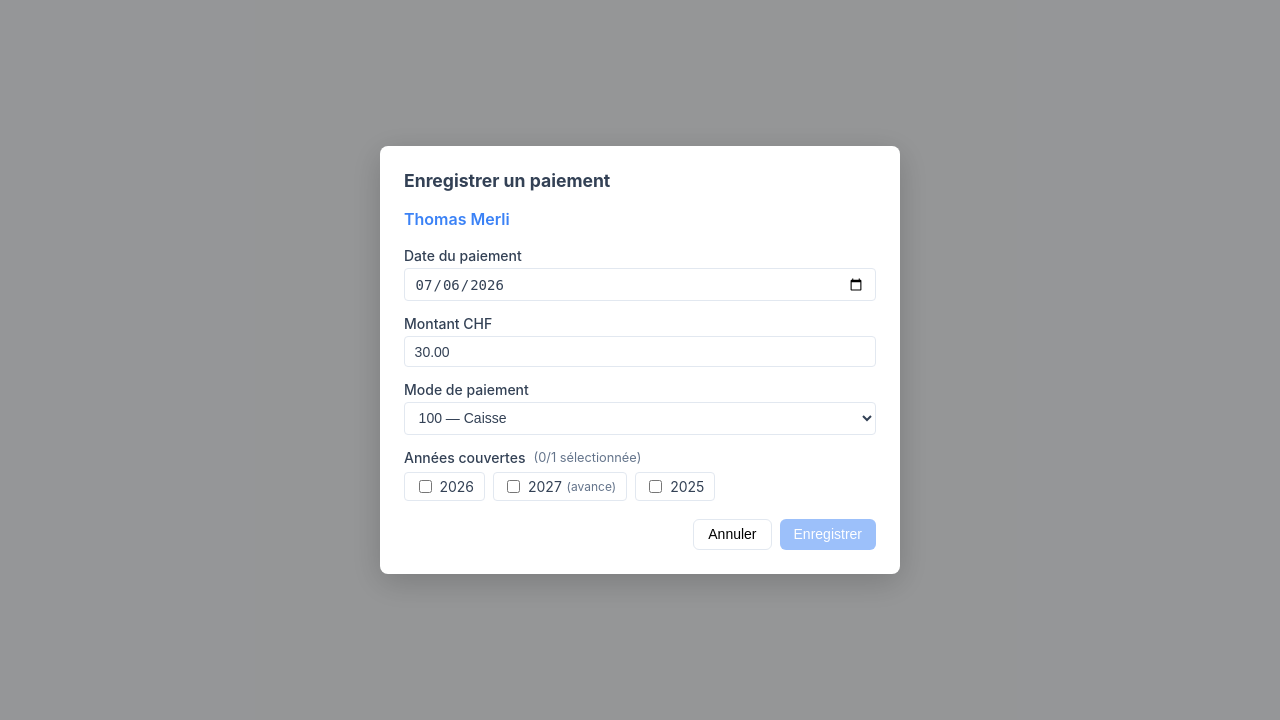
Test: MembrePaiementModal › affiche le surplus si montant % 30 > 0
Clear the number field showing "30.00" at (640, 352), box [404, 336, 876, 367]
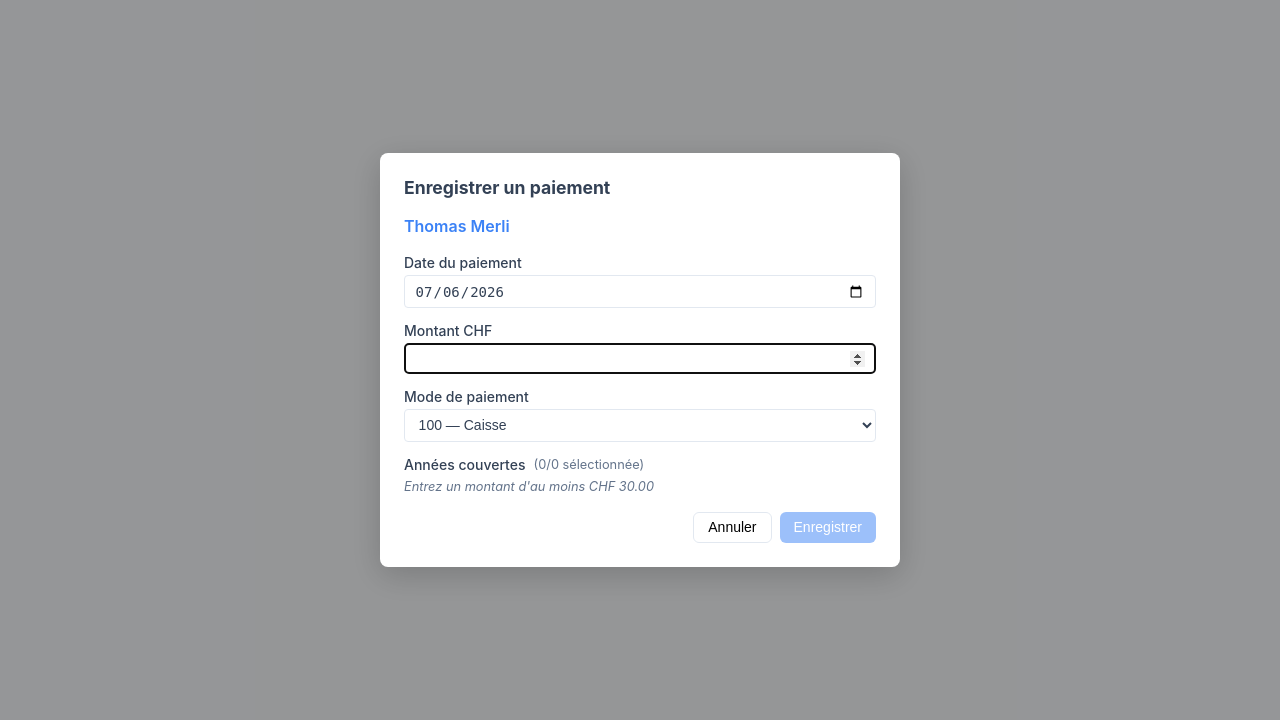
Type "40.00" into the number field showing "30.00" at (640, 359), box [404, 343, 876, 374]
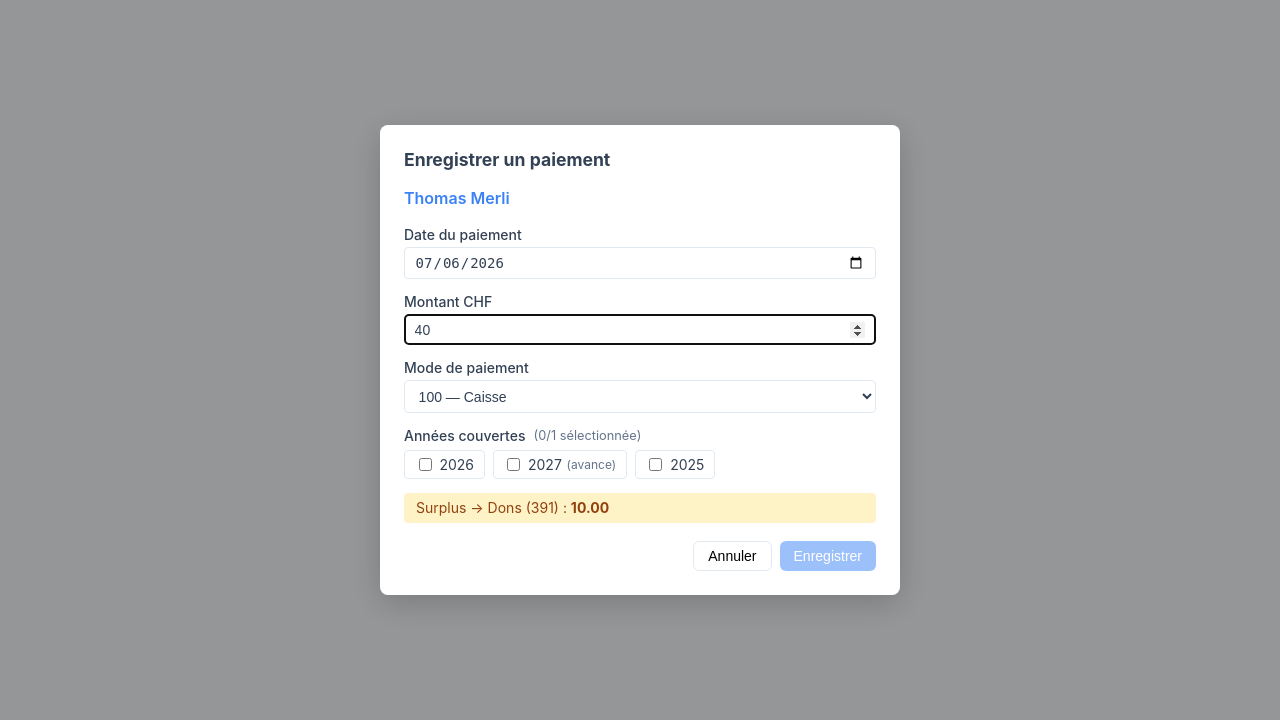
Now the text "Surplus → Dons (391) : 10.00" is shown, box [404, 493, 876, 523]
Now the text "10.00" is shown, box [571, 499, 609, 516]
